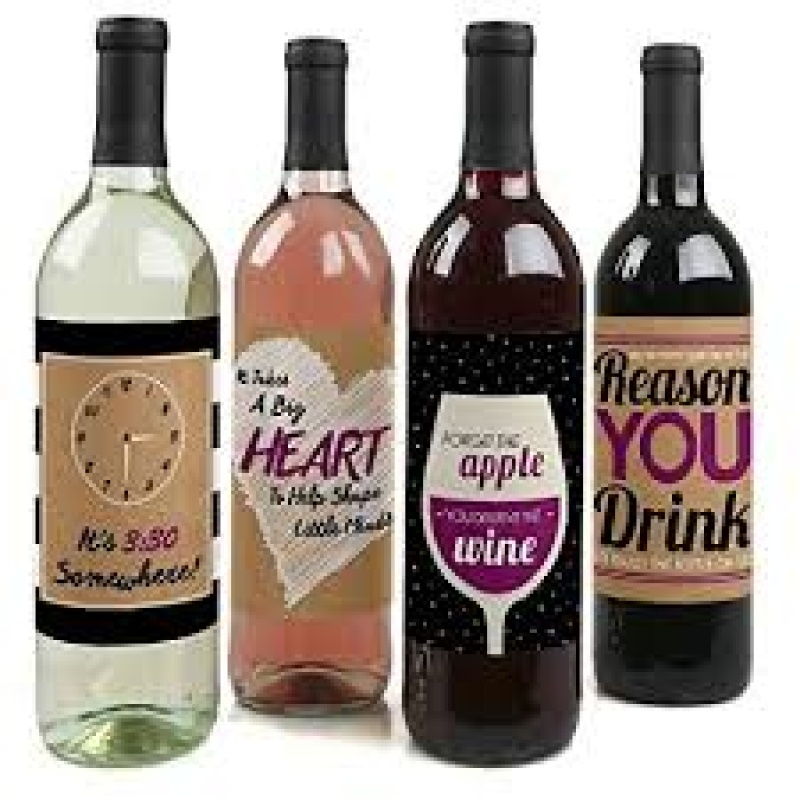wine: (402, 25, 581, 769), (38, 20, 219, 753), (595, 27, 761, 713), (243, 43, 388, 719)
